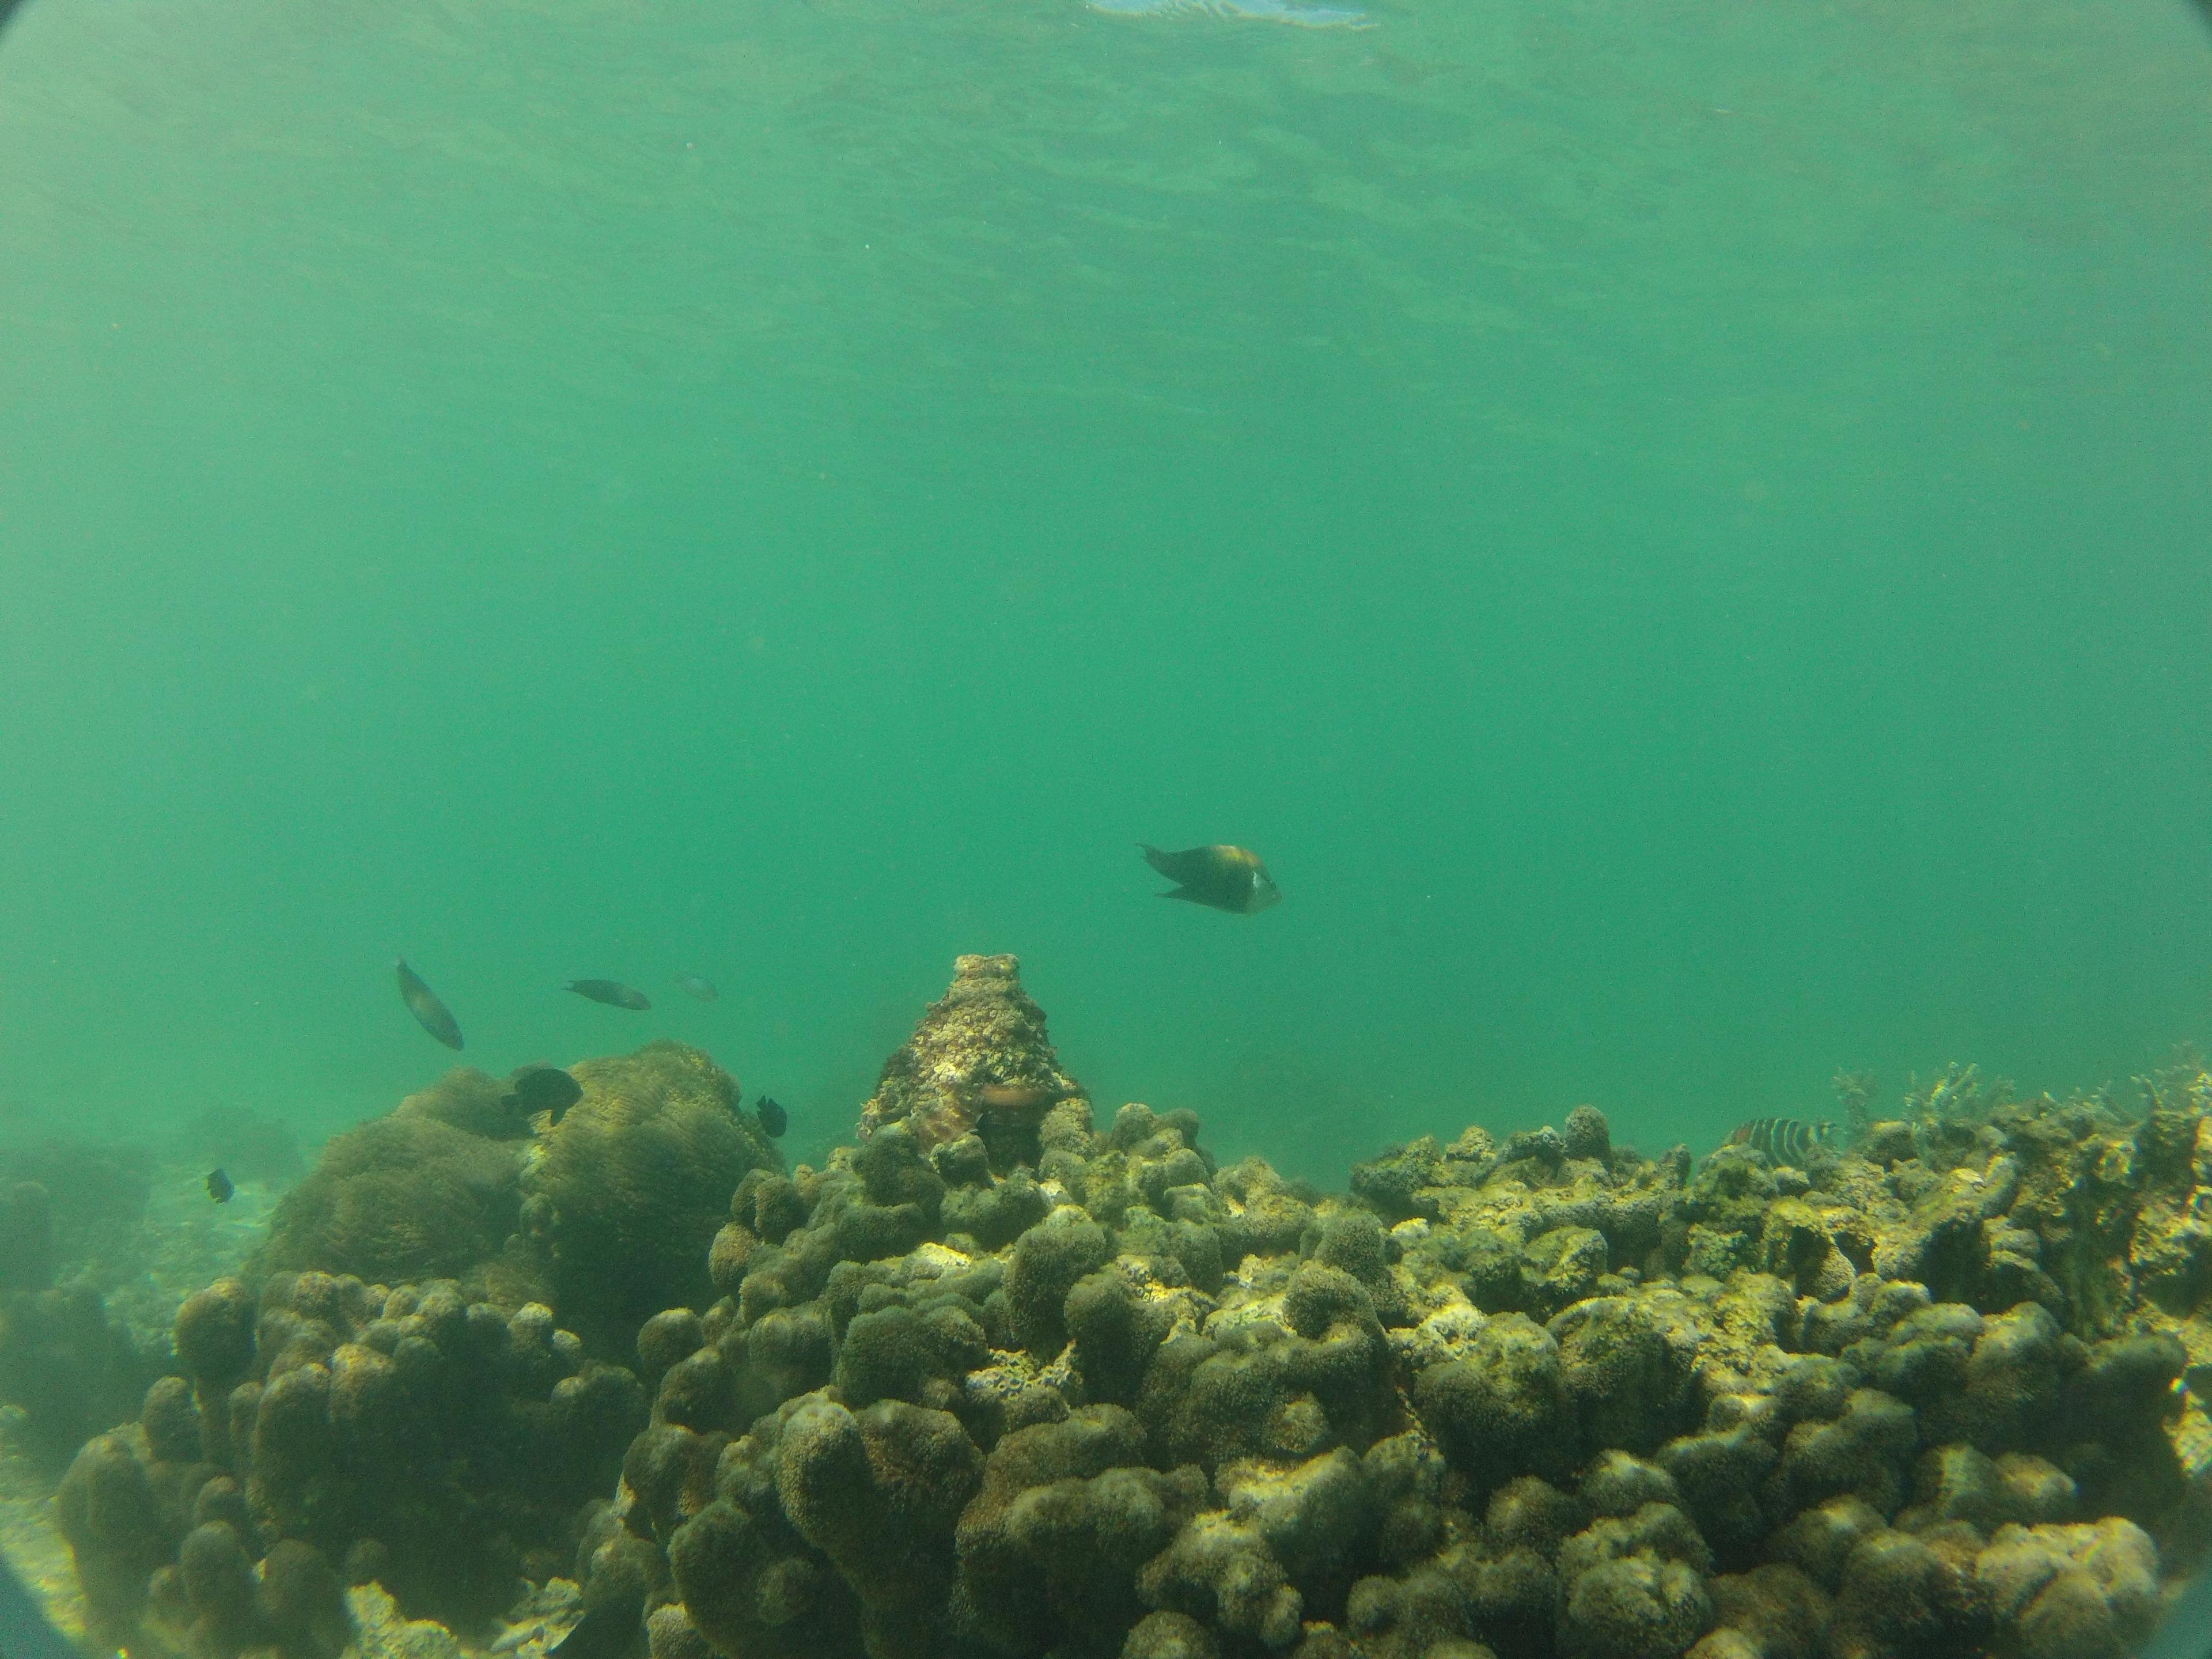Fish: (1123, 829, 1305, 953)
